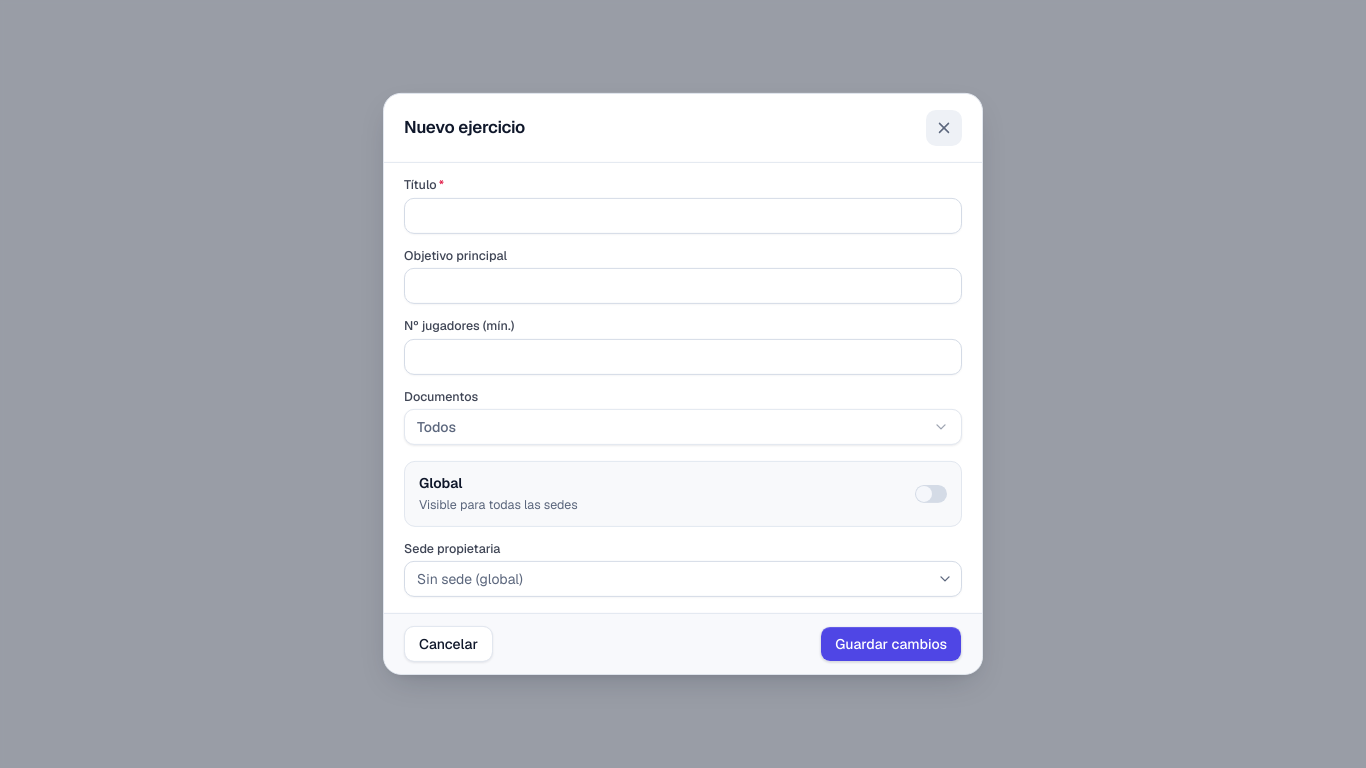
Test case: EjercicioForm › muestra documentos globales y de sede en el selector
The image size is (1366, 768).
Click the button "Todos" at (436, 427), box [404,409,962,445]
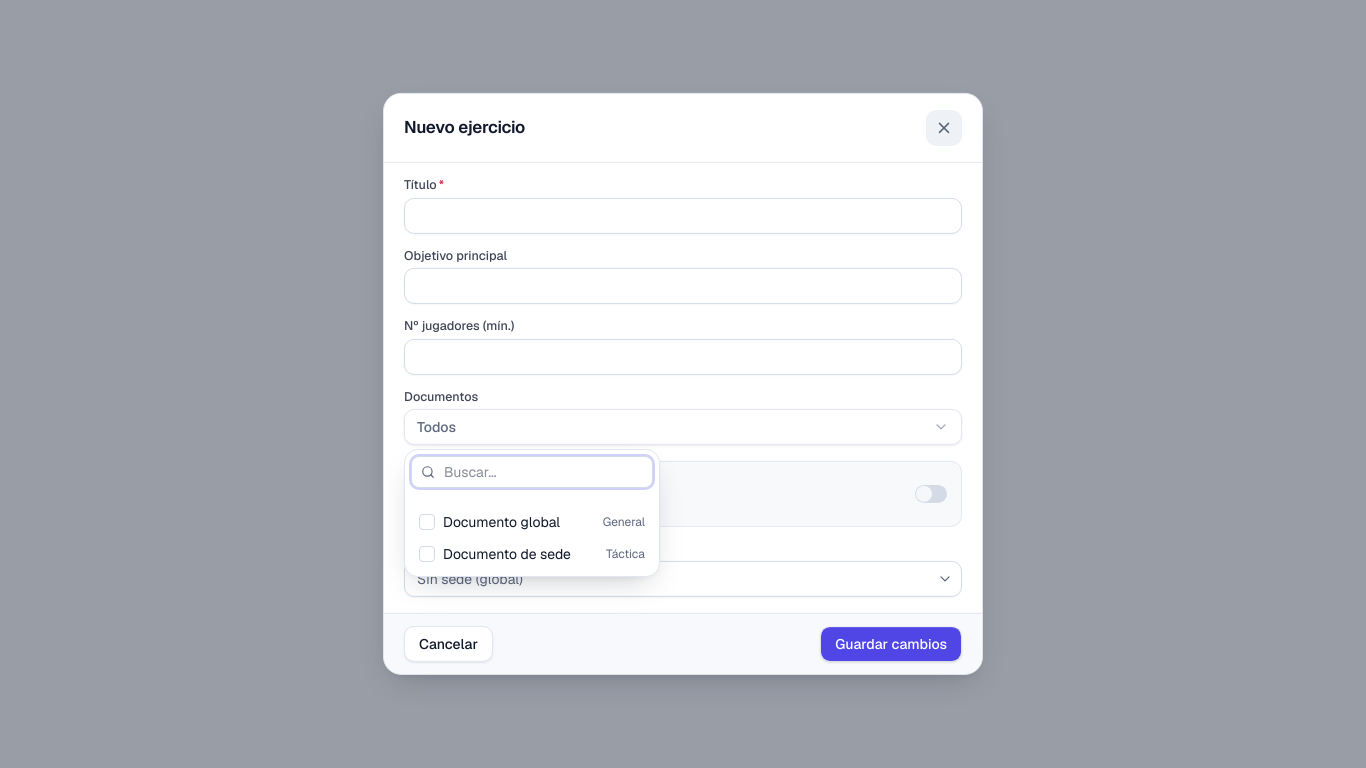
Check: the text "Documento global" is shown, box [443,513,560,531]
Check: the text "Documento de sede" is shown, box [443,545,571,563]
